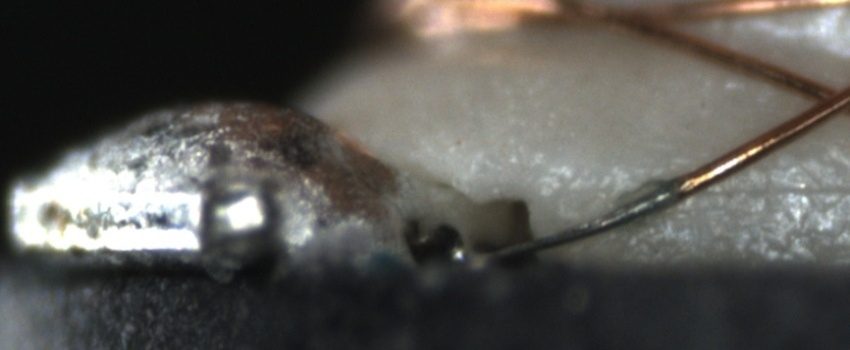CL: (795, 70, 849, 127)
DL: (697, 158, 849, 222)
TS: (475, 183, 684, 266)
TTCW: (475, 140, 755, 265)
